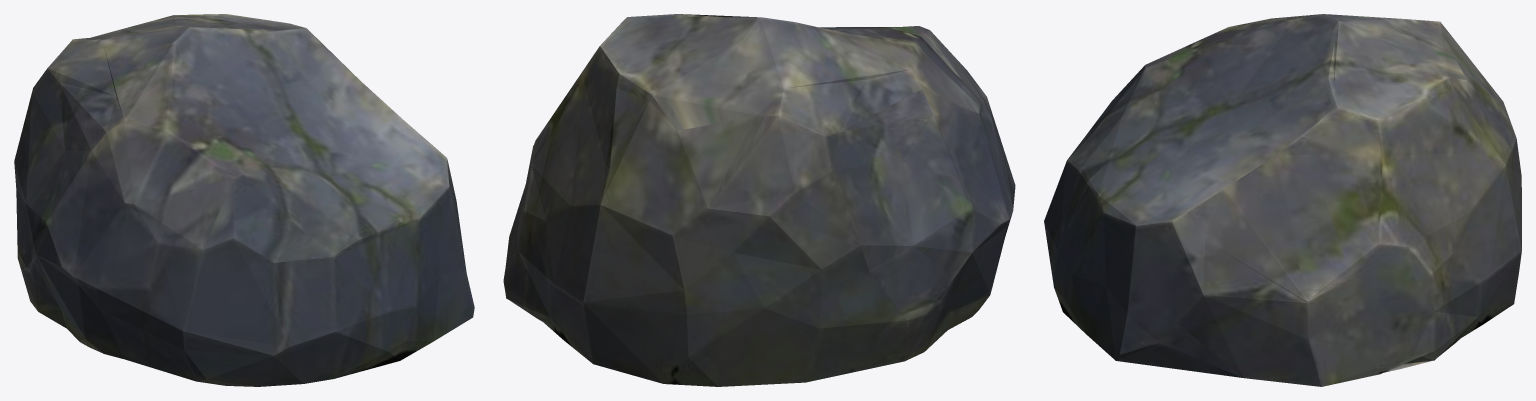
Rendered from rock_granite_xl_a_lod1.glb.
3 views of the same model, side by side, from view 1: azimuth 30°, elevation 25°; view 2: azimuth 150°, elevation 25°; view 3: azimuth 270°, elevation 25° (orthographic). The views are drawn at different scales.
Visible parts, largest first — view 1: rock_granite_xl_a_lod1; view 2: rock_granite_xl_a_lod1; view 3: rock_granite_xl_a_lod1.
Part boxes in pixels (x1,y1,x2,y2): rock_granite_xl_a_lod1: [14, 14, 474, 386]; rock_granite_xl_a_lod1: [503, 14, 1015, 386]; rock_granite_xl_a_lod1: [1044, 14, 1521, 386].
Bounding box in the file's own units: 2.81 × 1.71 × 2.91.
Materials: 1 (1 with a texture image).
